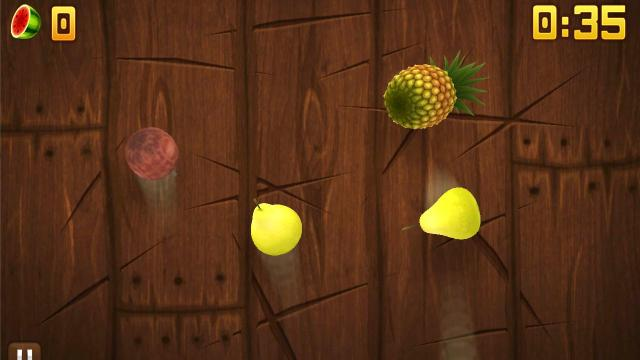fruit: (384, 49, 492, 130), (421, 187, 482, 240), (124, 127, 180, 181), (250, 202, 302, 256)
ignore: (10, 3, 42, 41)
